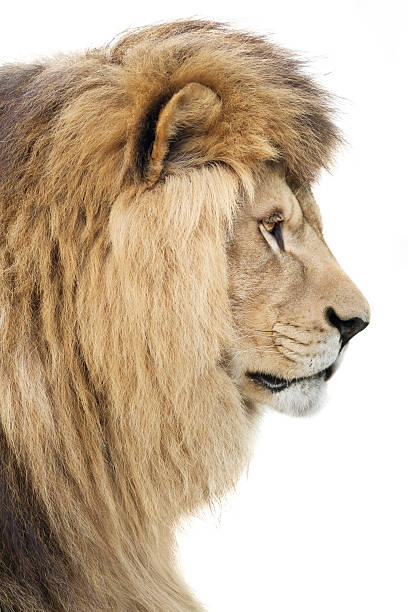lion: (4, 11, 375, 612)
